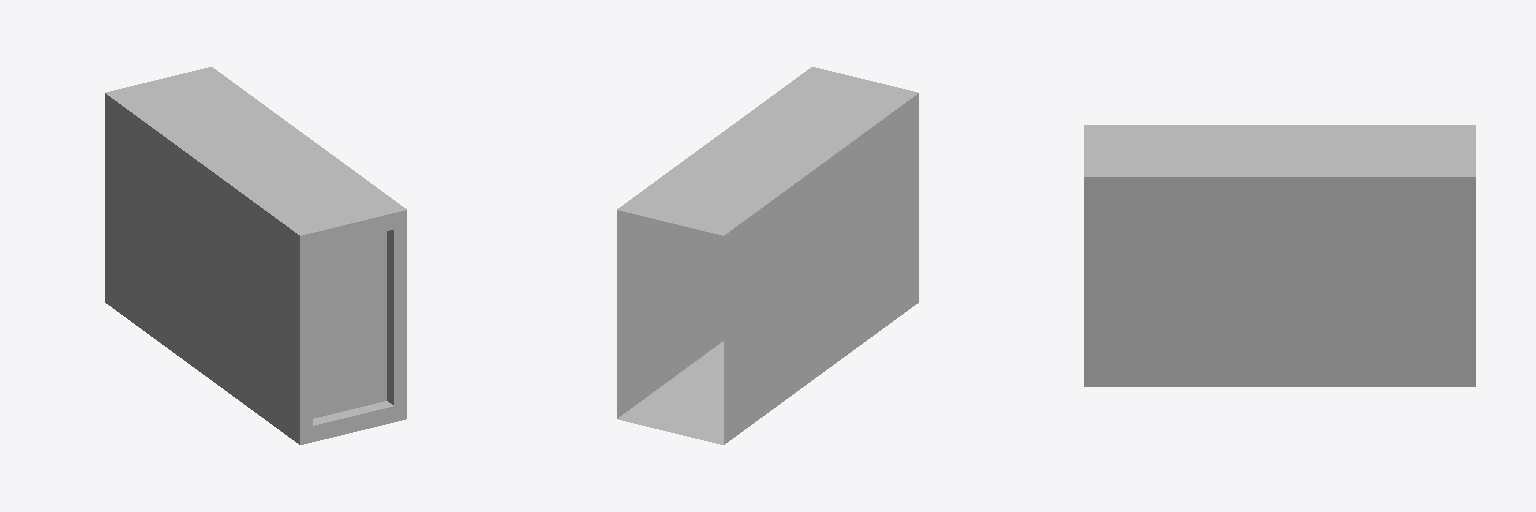
Rendered from tower6.obj.
The picture shows the model from 3 angles: view 1: azimuth 30°, elevation 25°; view 2: azimuth 150°, elevation 25°; view 3: azimuth 270°, elevation 25°; orthographic projection.
Visible parts, largest first — view 1: tower6; view 2: tower6; view 3: tower6.
Boxes of the visible parts, <box> form: tower6: <box>105,67,406,444</box>; tower6: <box>617,67,918,444</box>; tower6: <box>1084,125,1475,386</box>.
Size of the model in its own units: 20.16 by 37.64 by 63.76.